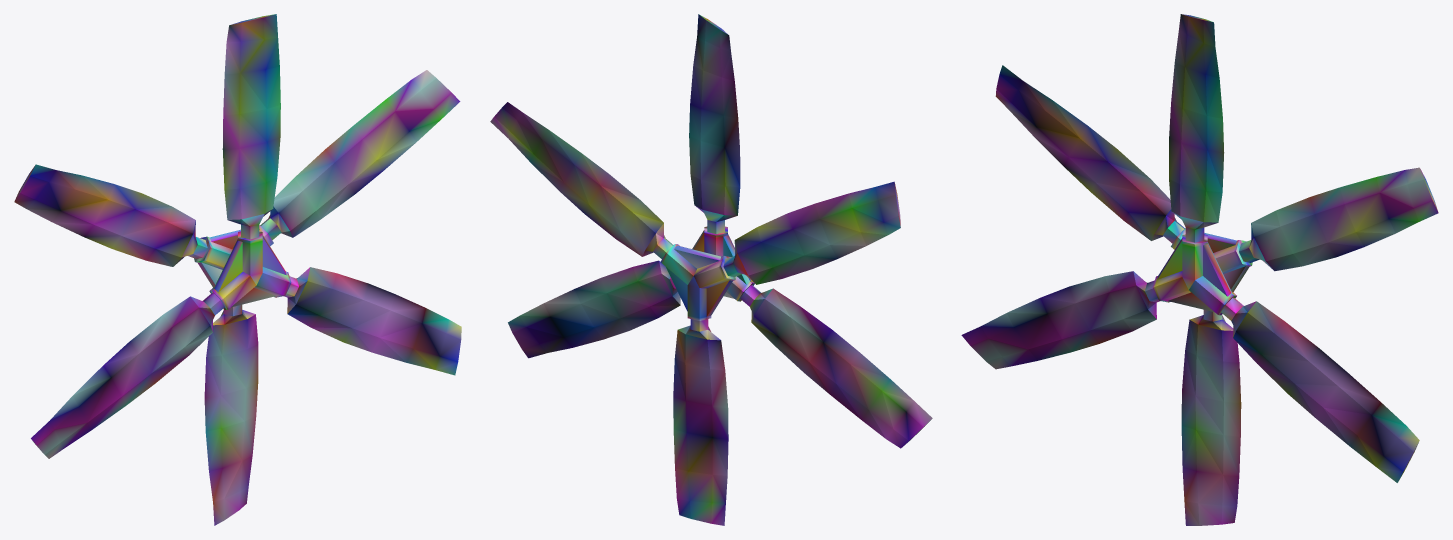
The model's file is Propeller.fbx.
3 renders of one model, left to right at view 1: azimuth 30°, elevation 25°; view 2: azimuth 150°, elevation 25°; view 3: azimuth 330°, elevation 25°, orthographic. The views are drawn at different scales.
Parts seen in each view (by area): view 1: Propeller; view 2: Propeller; view 3: Propeller.
Part boxes in pixels (bbox=[...]): Propeller: bbox=[14, 14, 461, 525]; Propeller: bbox=[490, 14, 932, 525]; Propeller: bbox=[961, 14, 1438, 525].
Size of the model in its own units: 1007 by 1106 by 116.
